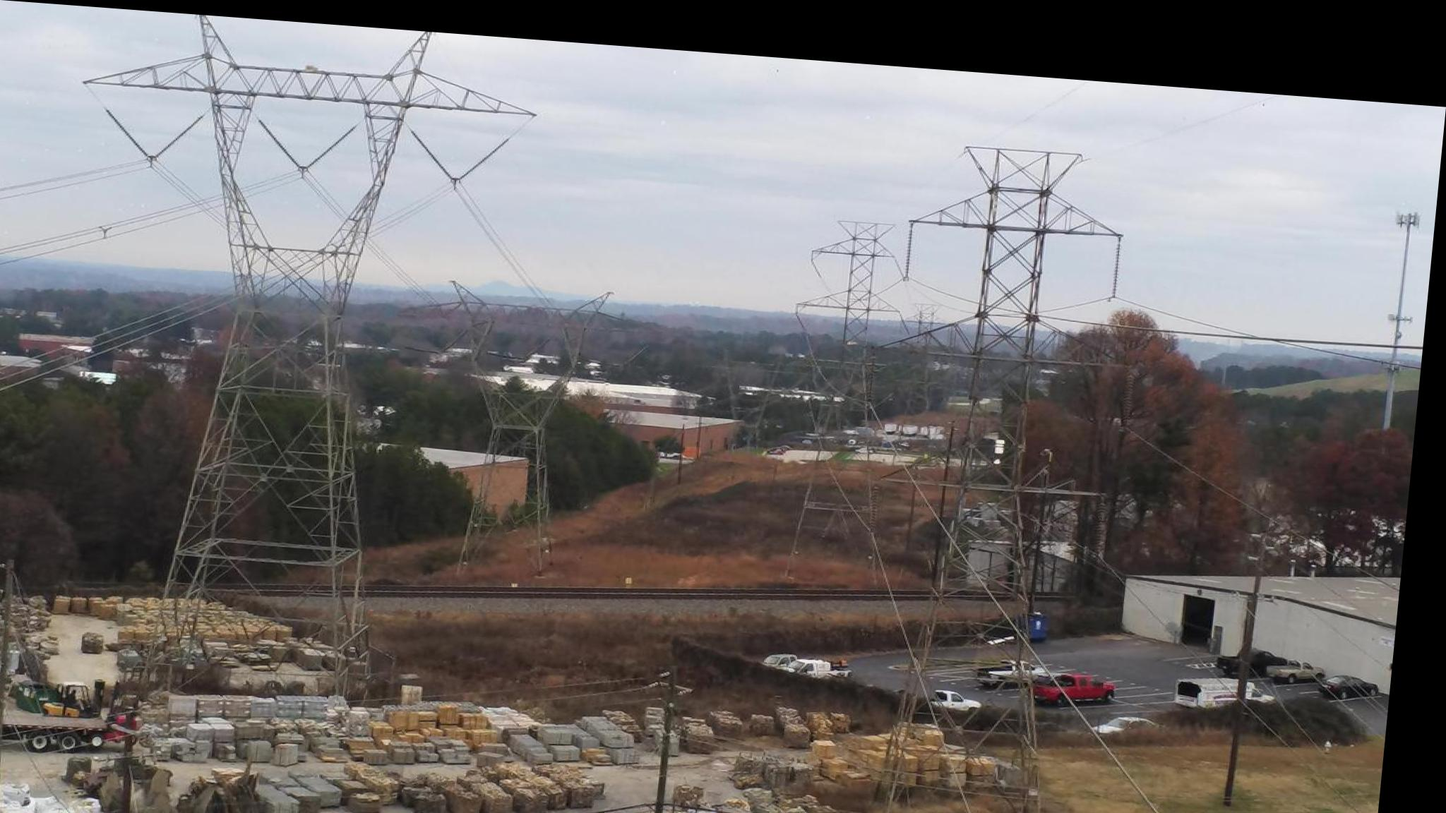tower: (73, 140, 989, 732)
